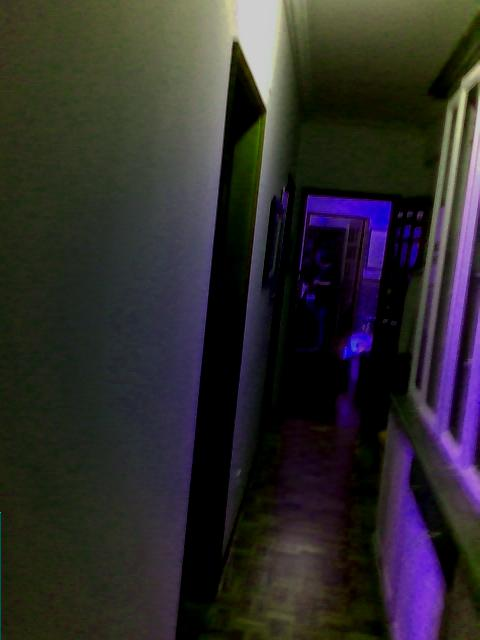open_door: (275, 186, 398, 435)
